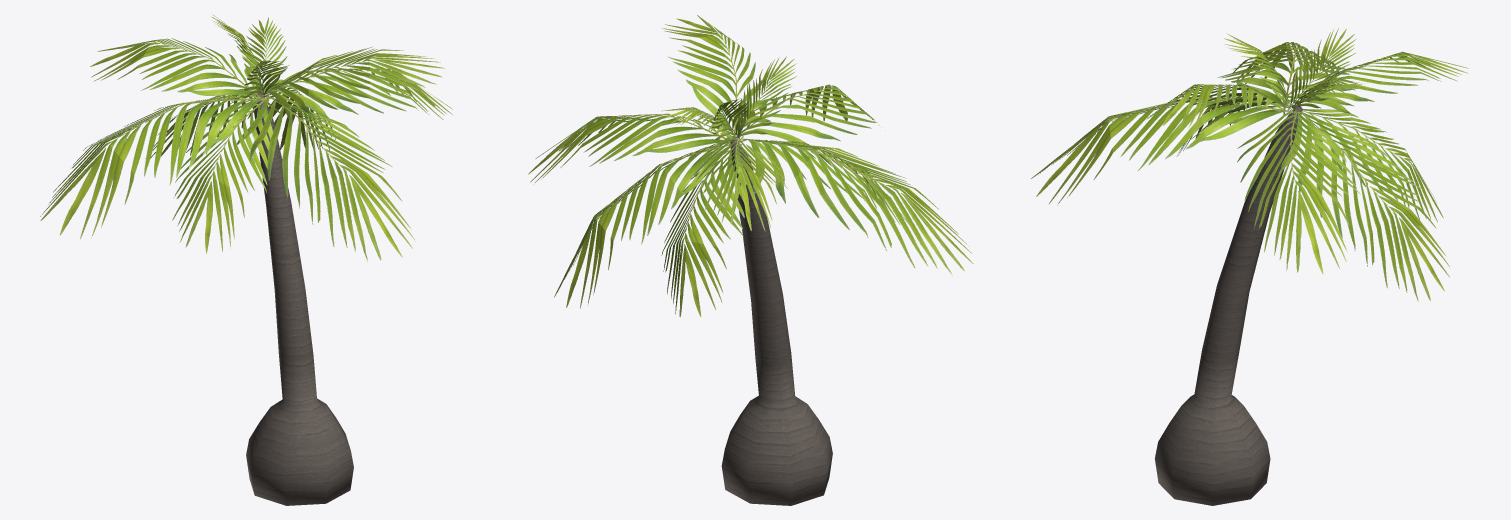
File: kelapa.fbx
3 renders of one model, left to right at view 1: azimuth 30°, elevation 25°; view 2: azimuth 150°, elevation 25°; view 3: azimuth 270°, elevation 25°, orthographic. The views are drawn at different scales.
Visible parts, largest first — view 1: kelapa; view 2: kelapa; view 3: kelapa.
Part boxes in pixels (x1=…): kelapa: x1=40, y1=14, x2=453, y2=505; kelapa: x1=528, y1=15, x2=973, y2=505; kelapa: x1=1031, y1=28, x2=1468, y2=505.
Bounding box in the file's own units: 2223 × 2208 × 2085.
Materials: 2 (2 with a texture image).
